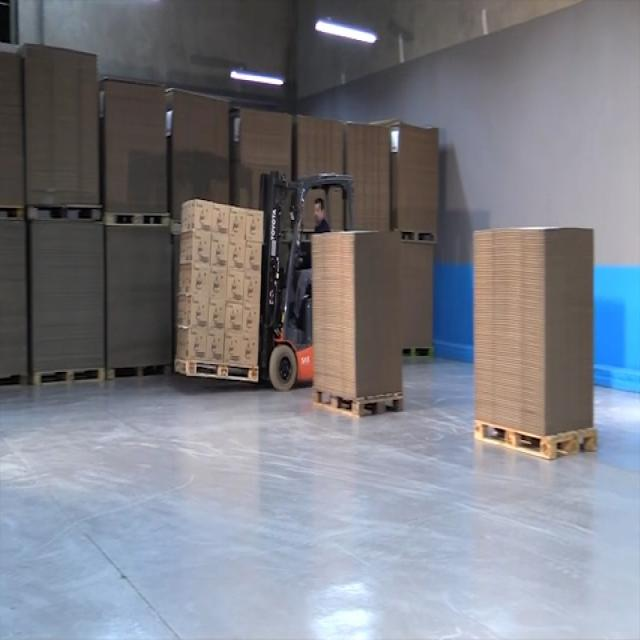Chariot elevateur: (259, 163, 356, 401)
Palette: (472, 416, 603, 465), (314, 383, 406, 429), (24, 192, 104, 233), (26, 364, 105, 396), (174, 360, 263, 388), (105, 210, 176, 238), (108, 360, 172, 389), (394, 225, 442, 256), (396, 339, 440, 361), (0, 365, 29, 396), (0, 197, 22, 227)
